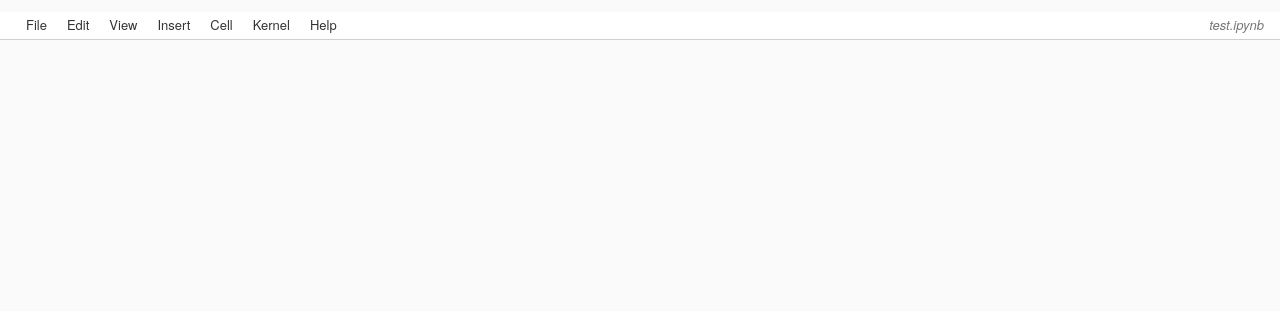
it: MenuBar › closes dropdown when clicking an item
Click the text "File" at (36, 24), box [26,15,47,34]
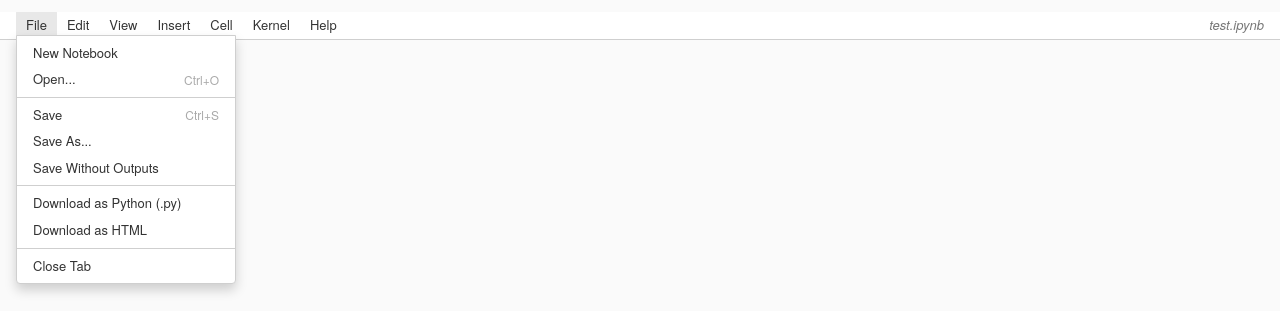
Expected: the text "Open..." is shown
Click the text "Open..." at (54, 79), box [33,70,76,89]
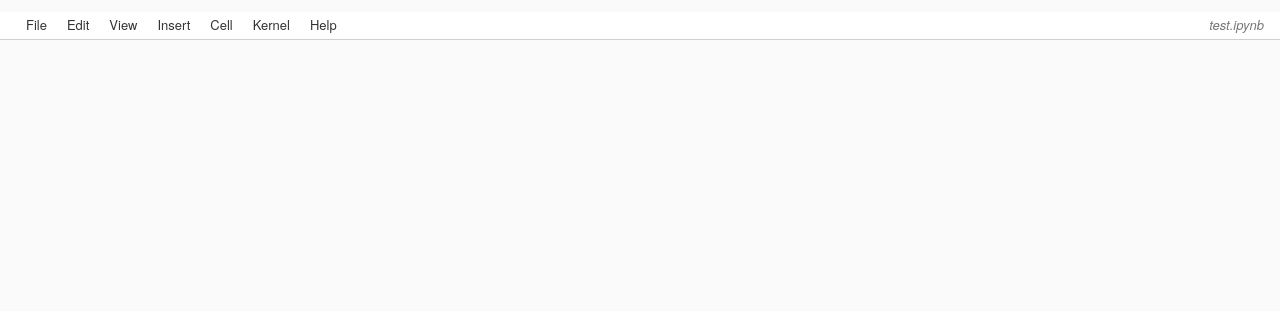
Expected: the text "Save As..." is gone
